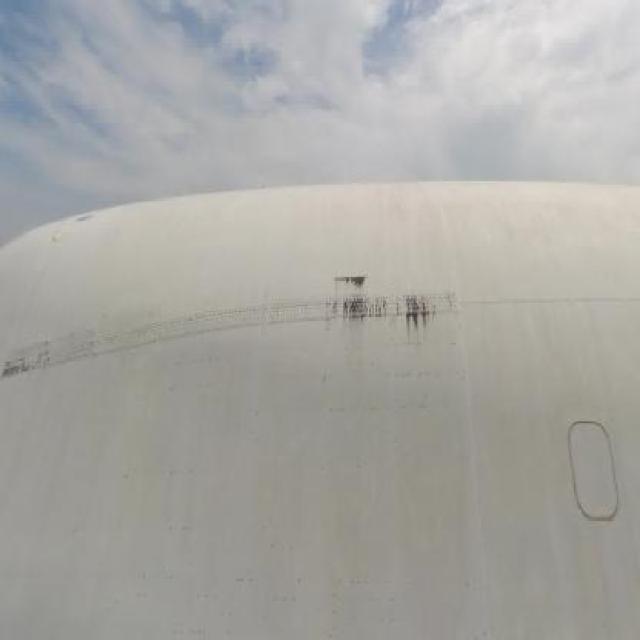Rust: (322, 264, 448, 354)
Scartch: (0, 334, 68, 398)
